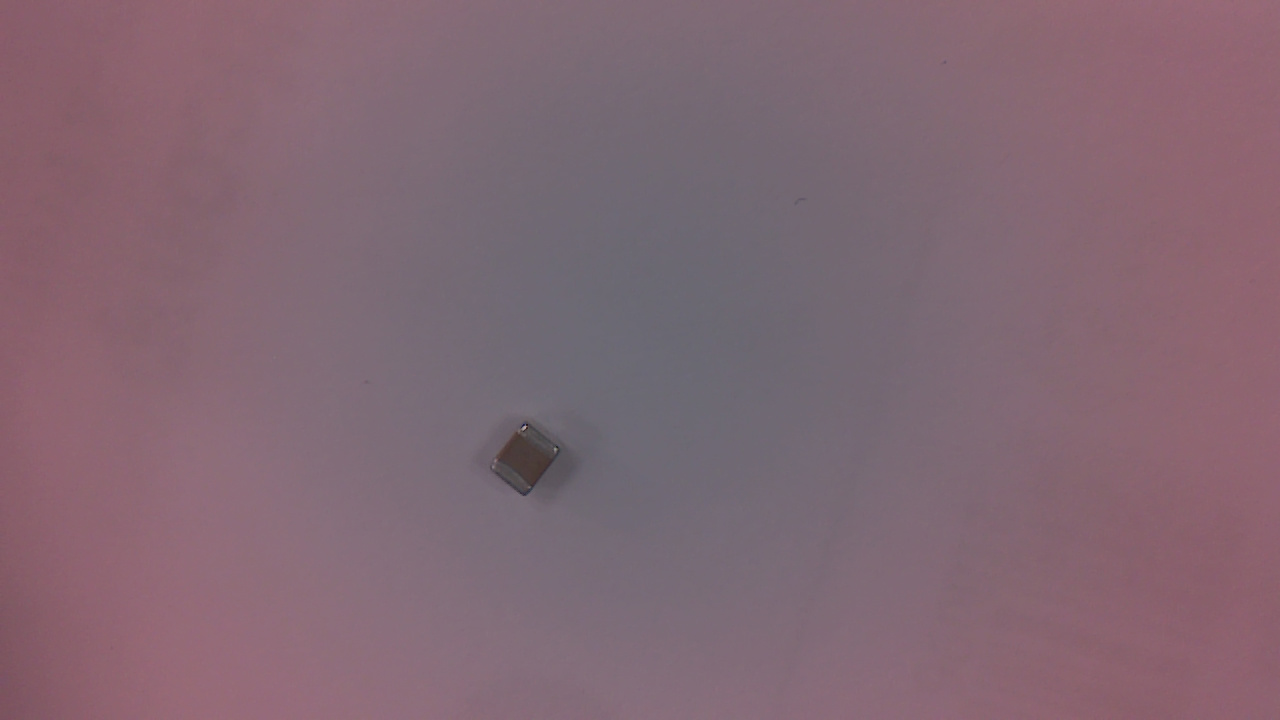Condensator: (495, 429, 568, 500)
